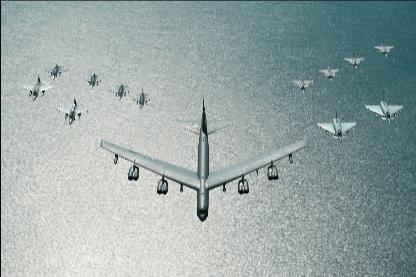B2: (100, 93, 306, 220)
E2: (316, 106, 356, 141), (365, 91, 403, 123)
F14: (56, 92, 90, 124), (21, 69, 53, 100), (81, 66, 105, 88), (109, 77, 133, 99), (130, 86, 154, 108), (43, 58, 67, 78)
JAS39: (292, 73, 312, 93), (318, 63, 340, 81), (343, 50, 363, 68), (373, 40, 393, 56)
